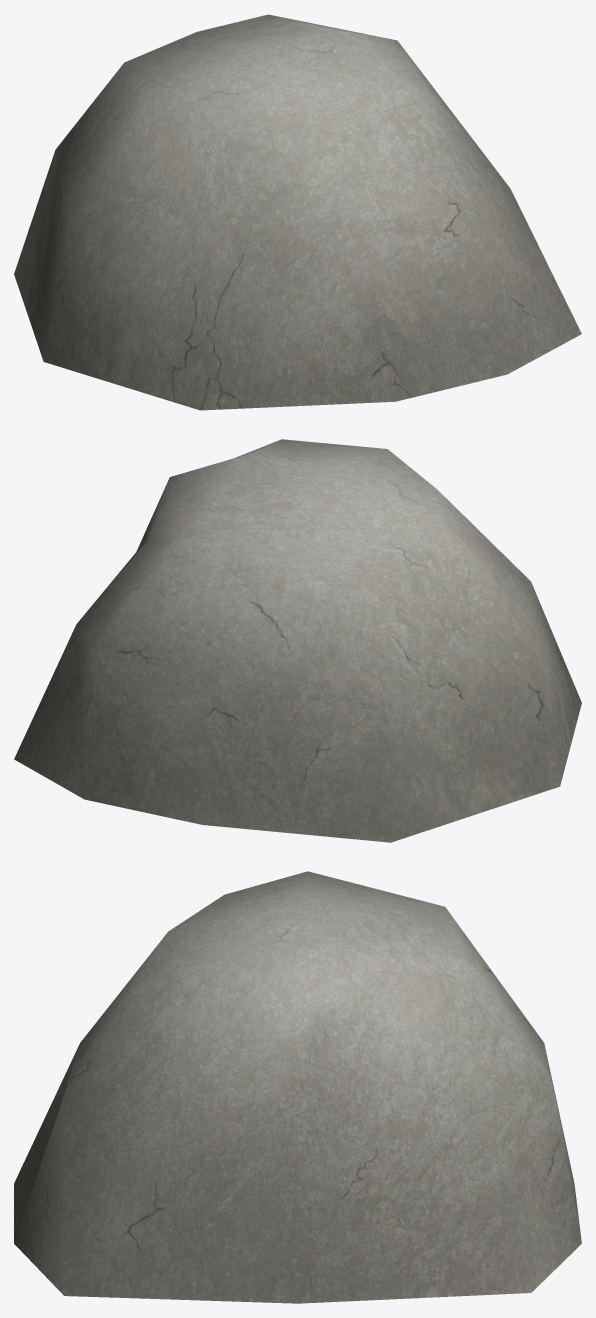
File: Stone.FBX
The picture shows the model from 3 angles, top to bottom: view 1: azimuth 30°, elevation 25°; view 2: azimuth 150°, elevation 25°; view 3: azimuth 270°, elevation 25°; orthographic projection. The views are drawn at different scales.
Visible parts, largest first — view 1: Box001; view 2: Box001; view 3: Box001.
Boxes of the visible parts, x1,y1,x2,y2 form: Box001: (14,14,581,410); Box001: (14,439,581,842); Box001: (14,871,581,1303).
Size of the model in its own units: 10 by 5.45 by 10.
